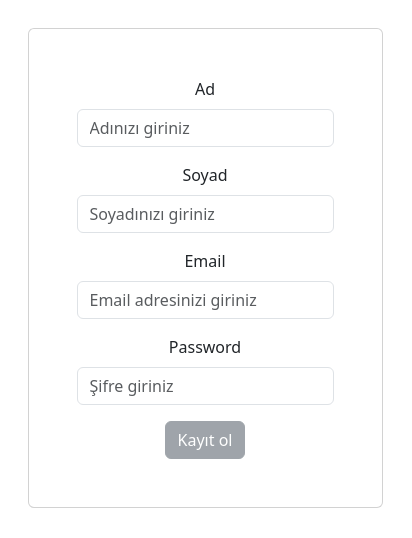
it: Register Page › Error Messages › email input throws error for emre@wit
In the field with test id "email-input": [206, 300] box x1=77 y1=281 x2=334 y2=319, type "emre@wit."
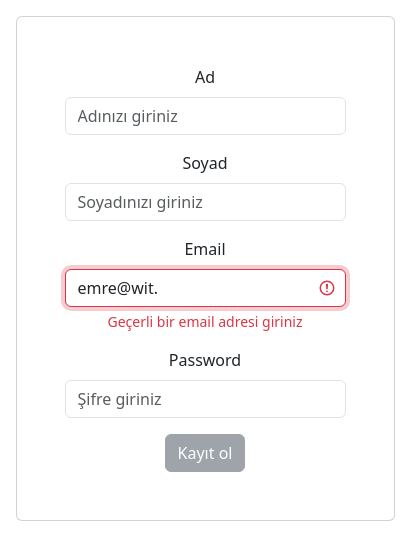
Now the text "Geçerli bir email adresi giriniz" is shown, box x1=108 y1=312 x2=302 y2=330
